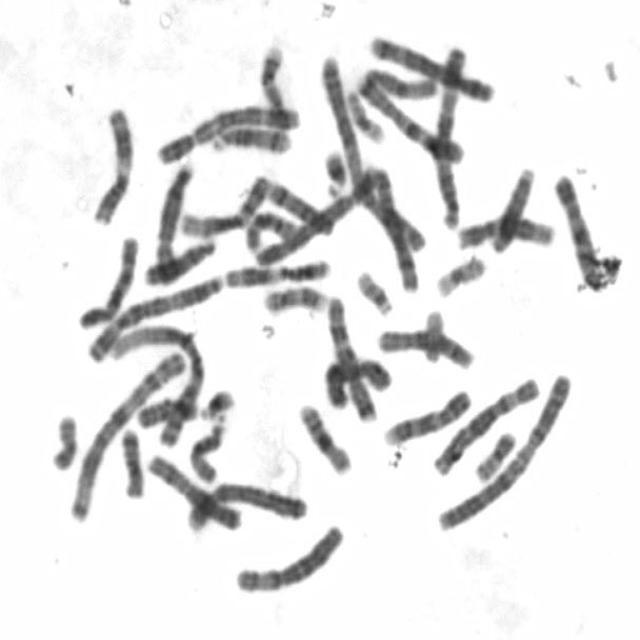A1: (65, 346, 188, 525), (110, 318, 206, 442)
A2: (430, 368, 577, 534), (319, 52, 428, 256)
A3: (84, 268, 223, 364), (434, 45, 469, 234)
B4: (254, 165, 378, 267), (182, 477, 309, 532)
B5: (366, 30, 496, 105), (156, 102, 302, 166)
C10: (75, 230, 140, 331), (375, 326, 479, 374)
C11: (88, 100, 137, 229), (220, 255, 331, 289)
C12: (177, 172, 268, 238), (454, 212, 554, 252)
C6: (429, 372, 542, 478), (230, 519, 346, 596)
C7: (354, 74, 466, 165), (323, 292, 379, 422)
C8: (371, 160, 423, 299), (151, 157, 197, 265)
C9: (551, 168, 604, 292), (379, 385, 474, 447)
D13: (488, 162, 536, 254), (141, 234, 218, 288)
D14: (264, 178, 336, 238), (207, 123, 294, 155)
D15: (186, 415, 228, 485), (362, 68, 440, 102)
E16: (294, 398, 352, 478), (241, 208, 316, 252)
E17: (261, 44, 293, 130), (261, 281, 328, 315)
E18: (136, 396, 198, 432), (117, 424, 145, 500)
F19: (433, 251, 487, 299), (342, 85, 385, 145)
F20: (471, 427, 518, 482), (48, 410, 80, 472)
G21: (321, 145, 350, 199), (196, 385, 238, 421)
G22: (354, 266, 394, 316), (419, 306, 445, 365)
X: (143, 450, 243, 532), (320, 352, 394, 410)
